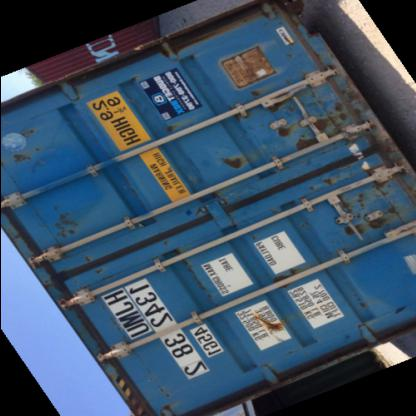Damage: (266, 96, 364, 146), (330, 178, 402, 236), (2, 118, 53, 169), (43, 192, 88, 247), (152, 353, 186, 415), (164, 239, 202, 293), (245, 303, 295, 340), (200, 144, 248, 180), (262, 258, 310, 290), (349, 282, 373, 336), (112, 72, 148, 92), (158, 114, 182, 138)
